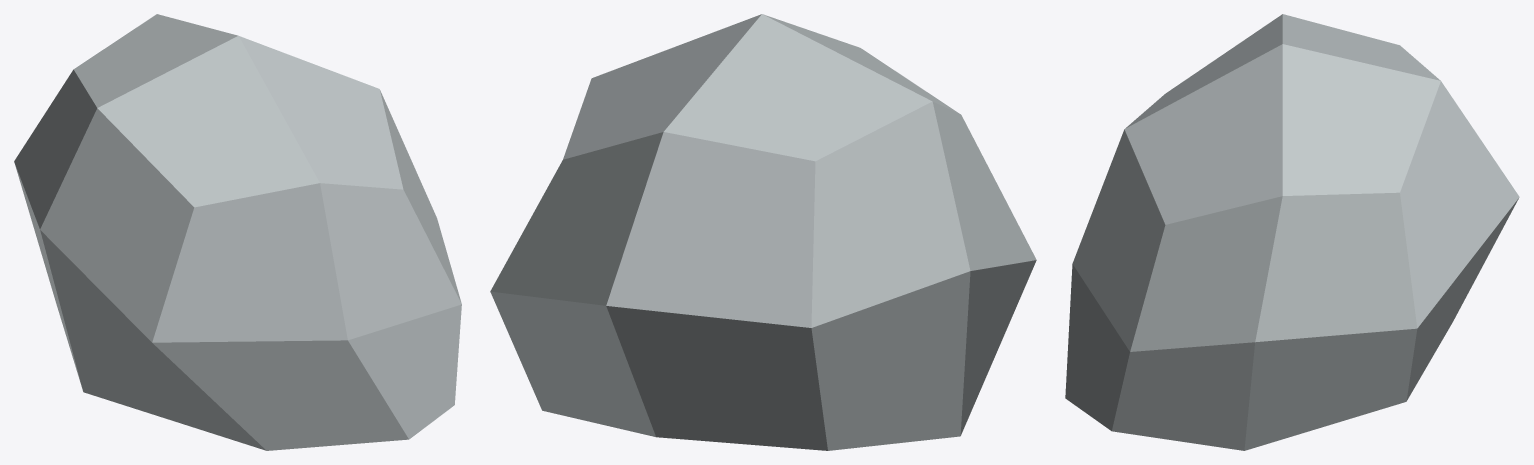
Rendered from maya_export_Boulder1_v1.fbx.
3 views of the same model, side by side, from view 1: azimuth 30°, elevation 25°; view 2: azimuth 150°, elevation 25°; view 3: azimuth 270°, elevation 25° (orthographic). The views are drawn at different scales.
Visible parts, largest first — view 1: Boulder1_v1; view 2: Boulder1_v1; view 3: Boulder1_v1.
Part boxes in pixels (box(x1,y1,x2,y2)): Boulder1_v1: box(14, 14, 461, 450); Boulder1_v1: box(490, 14, 1036, 450); Boulder1_v1: box(1065, 14, 1519, 450).
Bounding box in the file's own units: 10.94 × 9.76 × 11.98.
1 material, 1 textured.
